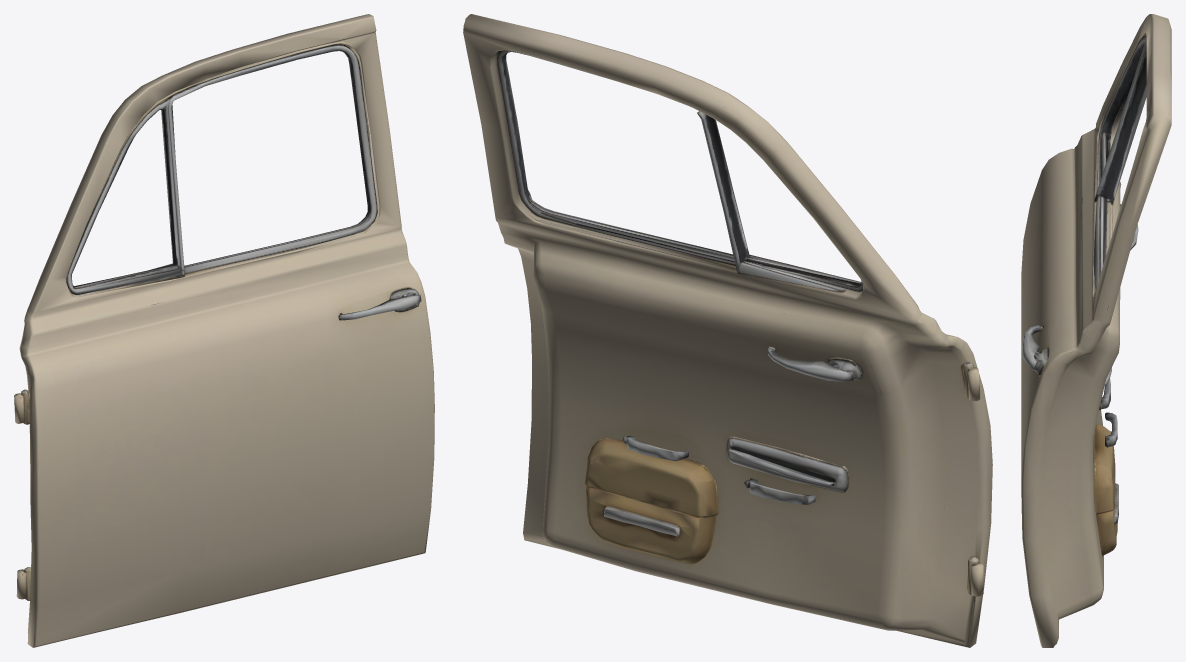
File: optimized_glb.glb
3 views of the same model, side by side, from view 1: azimuth 30°, elevation 25°; view 2: azimuth 150°, elevation 25°; view 3: azimuth 270°, elevation 25° (orthographic). The views are drawn at different scales.
Parts seen in each view (by area): view 1: right front door; view 2: right front door; view 3: right front door.
Part boxes in pixels (left/top/right/bottom): right front door: left=14, top=14, right=434, bottom=647; right front door: left=463, top=14, right=992, bottom=647; right front door: left=1021, top=14, right=1171, bottom=647.
Bounding box in the file's own units: 0.8457 × 0.998 × 0.2559.
1 material, 1 textured.
